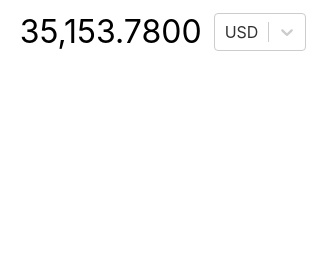
Test case: PriceDisplay component tests › reflects correct value when currency is changed to EUR
Press ArrowDown in the element showing "USD", box [214,12,306,50]
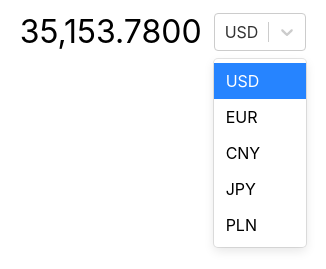
Click the option "EUR". click: (242, 116)
box: [226,106,257,126]
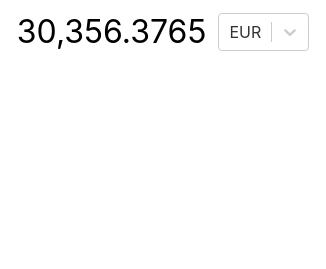
expect the text with test id "price-label" reads "30,356.3765": met, box [17,12,206,51]
